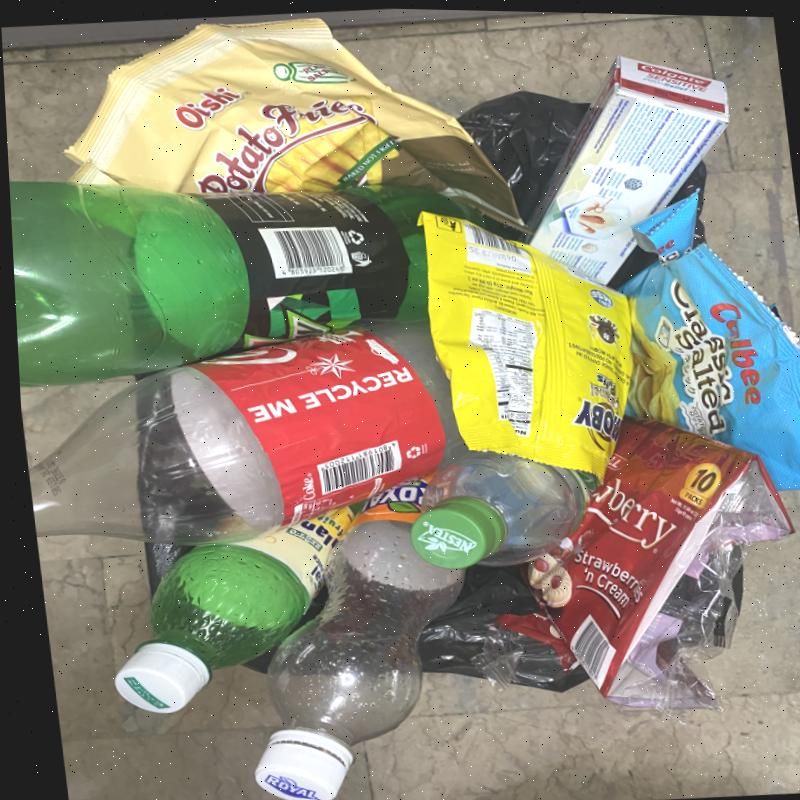cardboard: (518, 56, 729, 286)
food wrapper: (64, 18, 529, 231), (475, 416, 796, 712), (416, 211, 633, 482), (618, 190, 800, 492)
plastic bottle: (9, 181, 488, 386), (29, 320, 463, 546), (254, 479, 466, 800), (114, 500, 368, 714), (410, 450, 592, 569)
